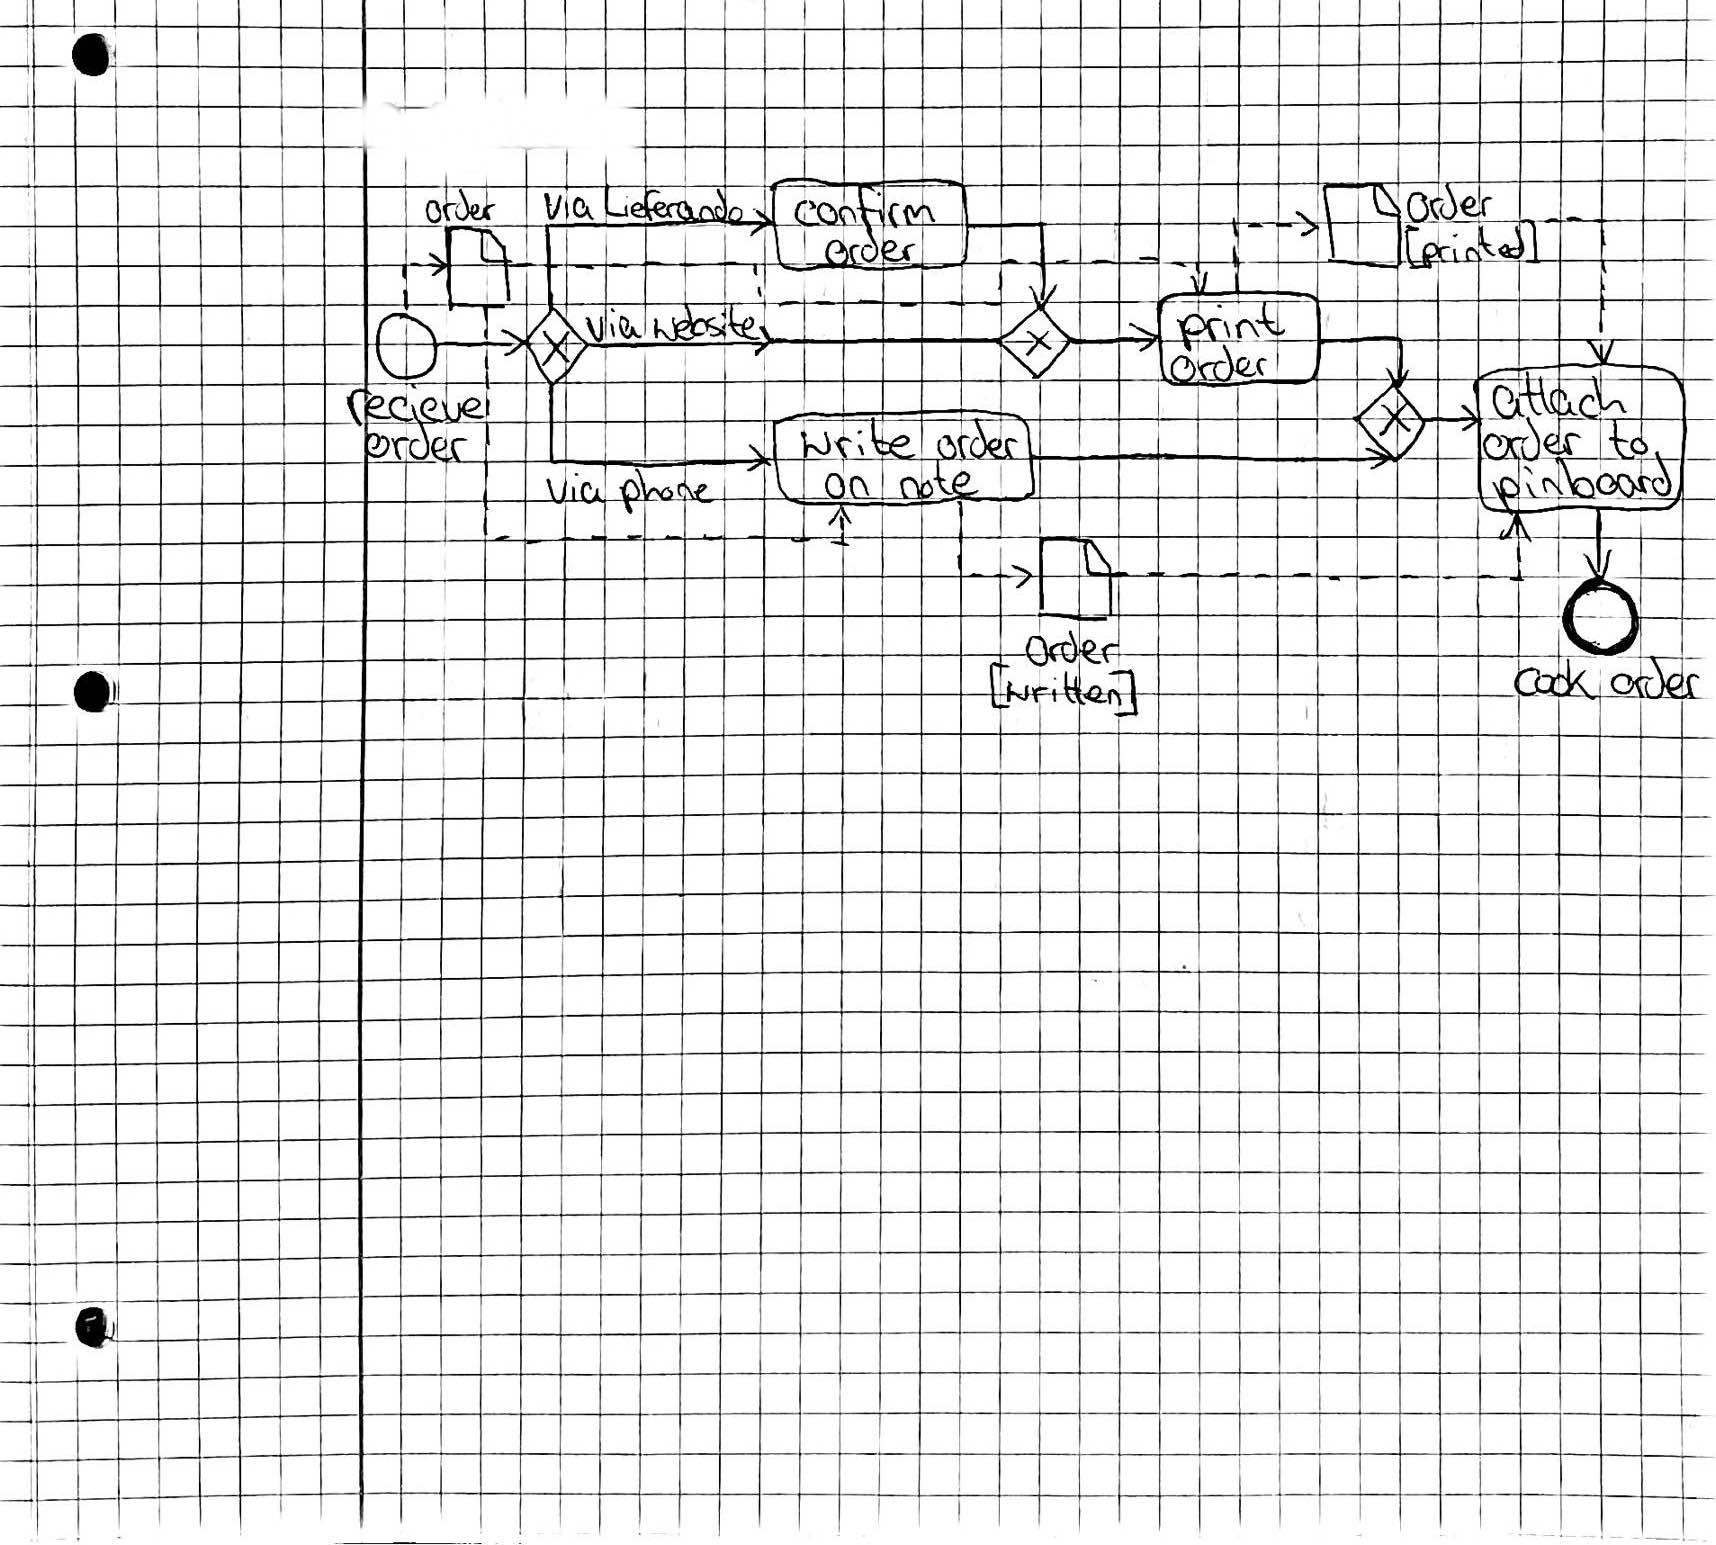Lieferando: (599, 183, 748, 224)
Order: (1024, 626, 1123, 671)
[printed]: (1398, 221, 1543, 271)
[written]: (982, 662, 1141, 717)
attach: (1485, 371, 1634, 424)
confirm: (793, 183, 936, 236)
cook: (1506, 659, 1600, 701)
note: (895, 459, 981, 503)
on: (818, 468, 877, 503)
order: (362, 427, 471, 468), (1482, 418, 1583, 461), (1167, 343, 1270, 385), (1607, 662, 1703, 705), (1401, 180, 1494, 224), (936, 418, 1023, 462), (823, 230, 921, 268), (422, 185, 499, 225)
phone: (614, 467, 719, 516)
pinboard: (1494, 456, 1676, 510)
print: (1175, 301, 1287, 350)
recieve: (344, 383, 489, 428)
to: (1606, 418, 1650, 462)
via: (543, 470, 608, 512), (581, 304, 644, 344), (540, 185, 596, 224)
website: (652, 303, 765, 344)
write: (795, 418, 924, 461)
